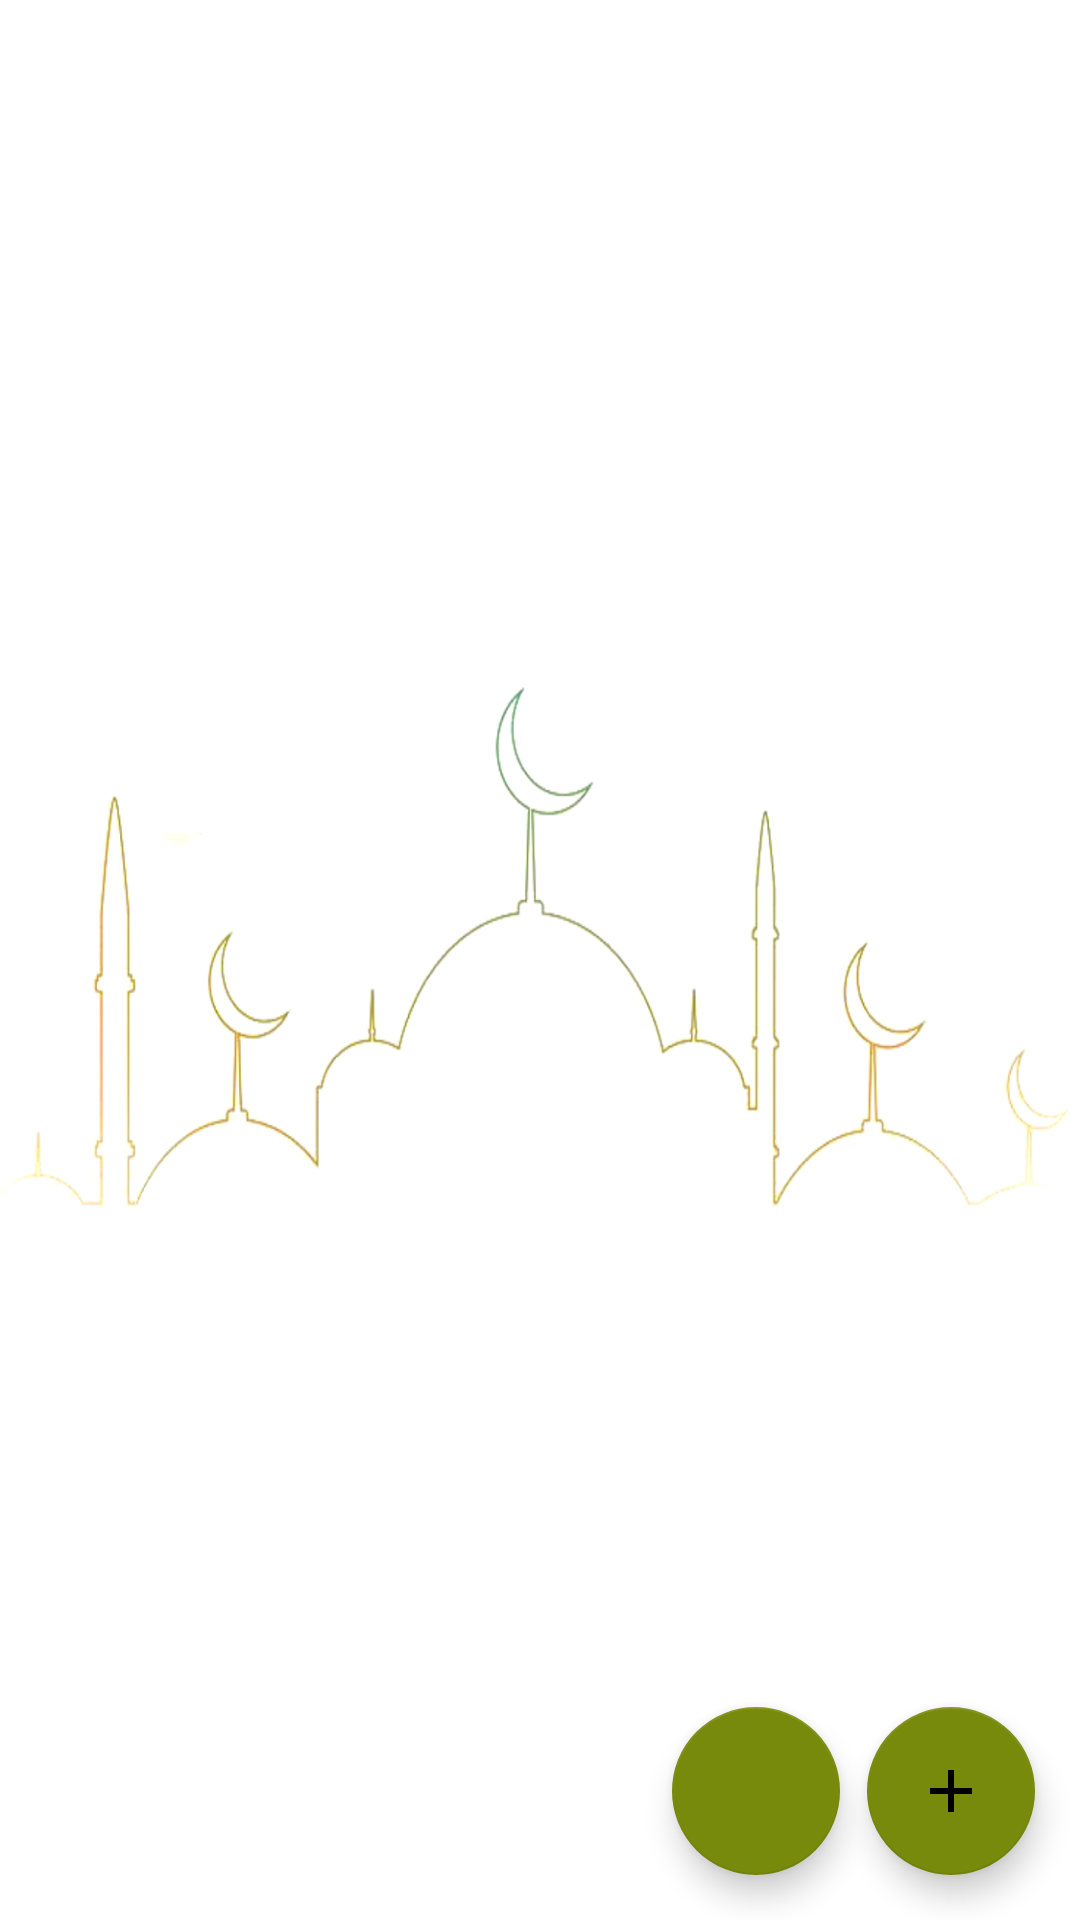

Icons on this 1080x1920 Android screen, each with the point to tap as point (x, y):
add: point (951, 1791)
